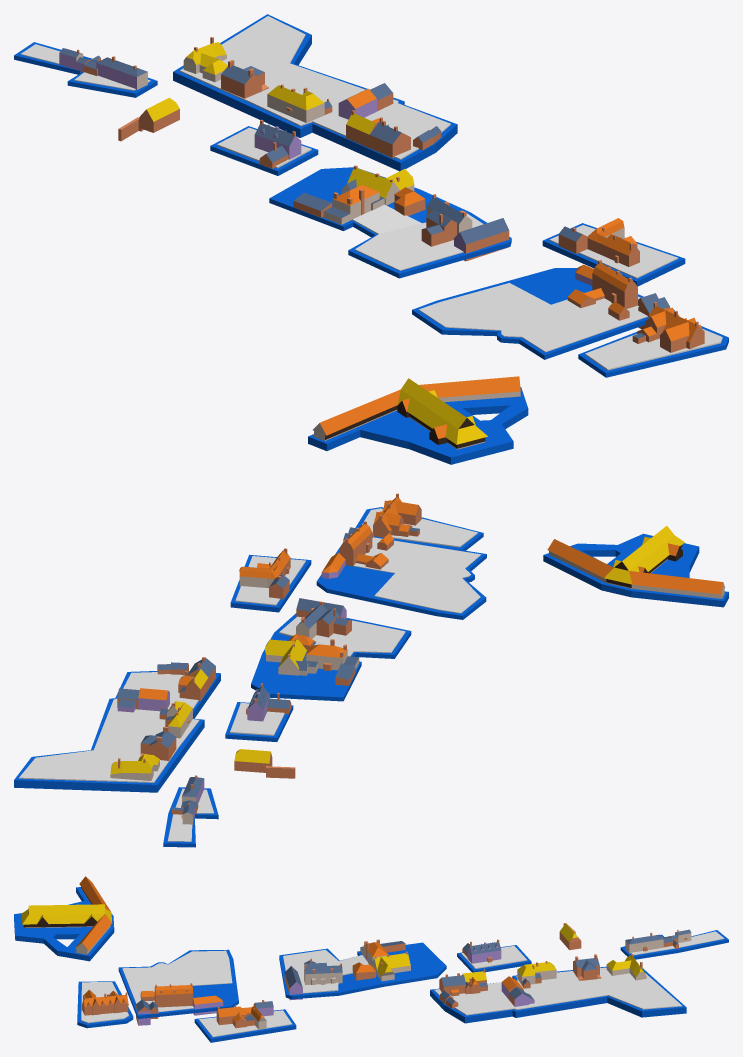
File: BuildingsWaterColour.fbx
The picture shows the model from 3 angles, top to bottom: view 1: azimuth 30°, elevation 25°; view 2: azimuth 150°, elevation 25°; view 3: azimuth 270°, elevation 25°; orthographic projection. The views are drawn at different scales.
Parts seen in each view (by area): view 1: Foundations.001, Foundations, The Red Lion, TerraRoof, ThatchRoof, SlateRoof, The Red Lion.002, The Red Lion.007, The Red Lion.003; view 2: Foundations.001, Foundations, The Red Lion, TerraRoof, ThatchRoof, SlateRoof, The Red Lion.002, The Red Lion.007; view 3: Foundations.001, Foundations, The Red Lion, ThatchRoof, TerraRoof, SlateRoof, The Red Lion.002, The Red Lion.007, The Red Lion.003.
Boxes of the visible parts, box(x1,y1,x2,y2) form: Foundations.001: box(20, 16, 722, 370); Foundations: box(14, 14, 728, 464); The Red Lion: box(77, 37, 704, 352); TerraRoof: box(320, 88, 701, 438); ThatchRoof: box(146, 42, 487, 444); SlateRoof: box(59, 48, 669, 338); The Red Lion.002: box(76, 53, 624, 449); The Red Lion.007: box(59, 53, 592, 285); The Red Lion.003: box(325, 401, 485, 448); Foundations.001: box(19, 508, 481, 841); Foundations: box(14, 507, 728, 847); The Red Lion: box(117, 493, 421, 818); TerraRoof: box(138, 497, 723, 700); ThatchRoof: box(110, 526, 684, 774); SlateRoof: box(117, 527, 419, 814); The Red Lion.002: box(110, 547, 725, 825); The Red Lion.007: box(117, 559, 346, 823); Foundations.001: box(81, 931, 724, 1037); Foundations: box(14, 887, 728, 1042); The Red Lion: box(82, 923, 687, 1028); ThatchRoof: box(21, 904, 645, 981); TerraRoof: box(75, 876, 523, 1022); SlateRoof: box(107, 929, 691, 1020); The Red Lion.002: box(24, 888, 691, 1029); The Red Lion.007: box(138, 942, 534, 1025); The Red Lion.003: box(23, 887, 96, 927).
Size of the model in its own units: 187 by 20.07 by 362.
